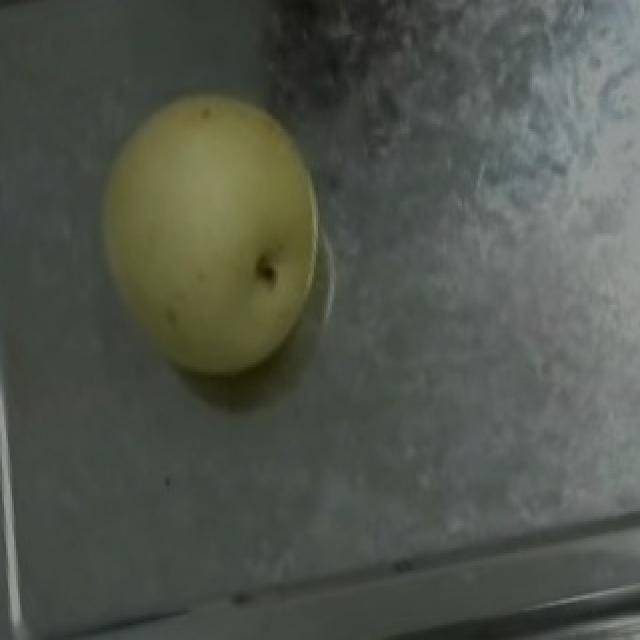Fruit: (72, 62, 350, 394)
